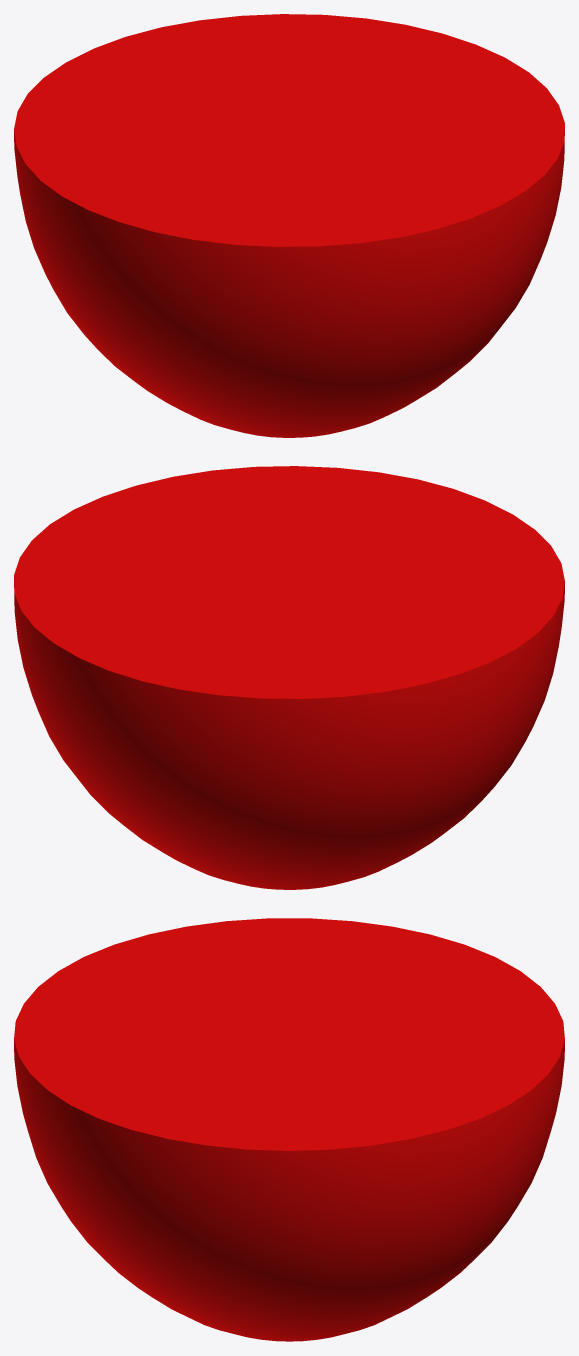
File: Liquid.fbx
The picture shows the model from 3 angles, top to bottom: view 1: azimuth 30°, elevation 25°; view 2: azimuth 150°, elevation 25°; view 3: azimuth 270°, elevation 25°; orthographic projection.
Parts seen in each view (by area): view 1: Liquid1; view 2: Liquid1; view 3: Liquid1.
Boxes of the visible parts, <box> form: Liquid1: <box>14,14,564,437</box>; Liquid1: <box>14,466,564,889</box>; Liquid1: <box>14,918,564,1341</box>.
Bounding box in the file's own units: 1.22 × 0.7048 × 1.22.
